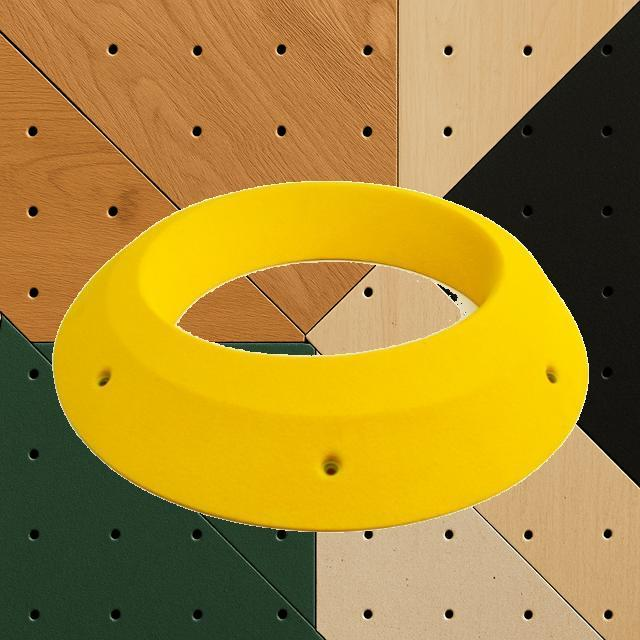Jug: (52, 180, 588, 532)
